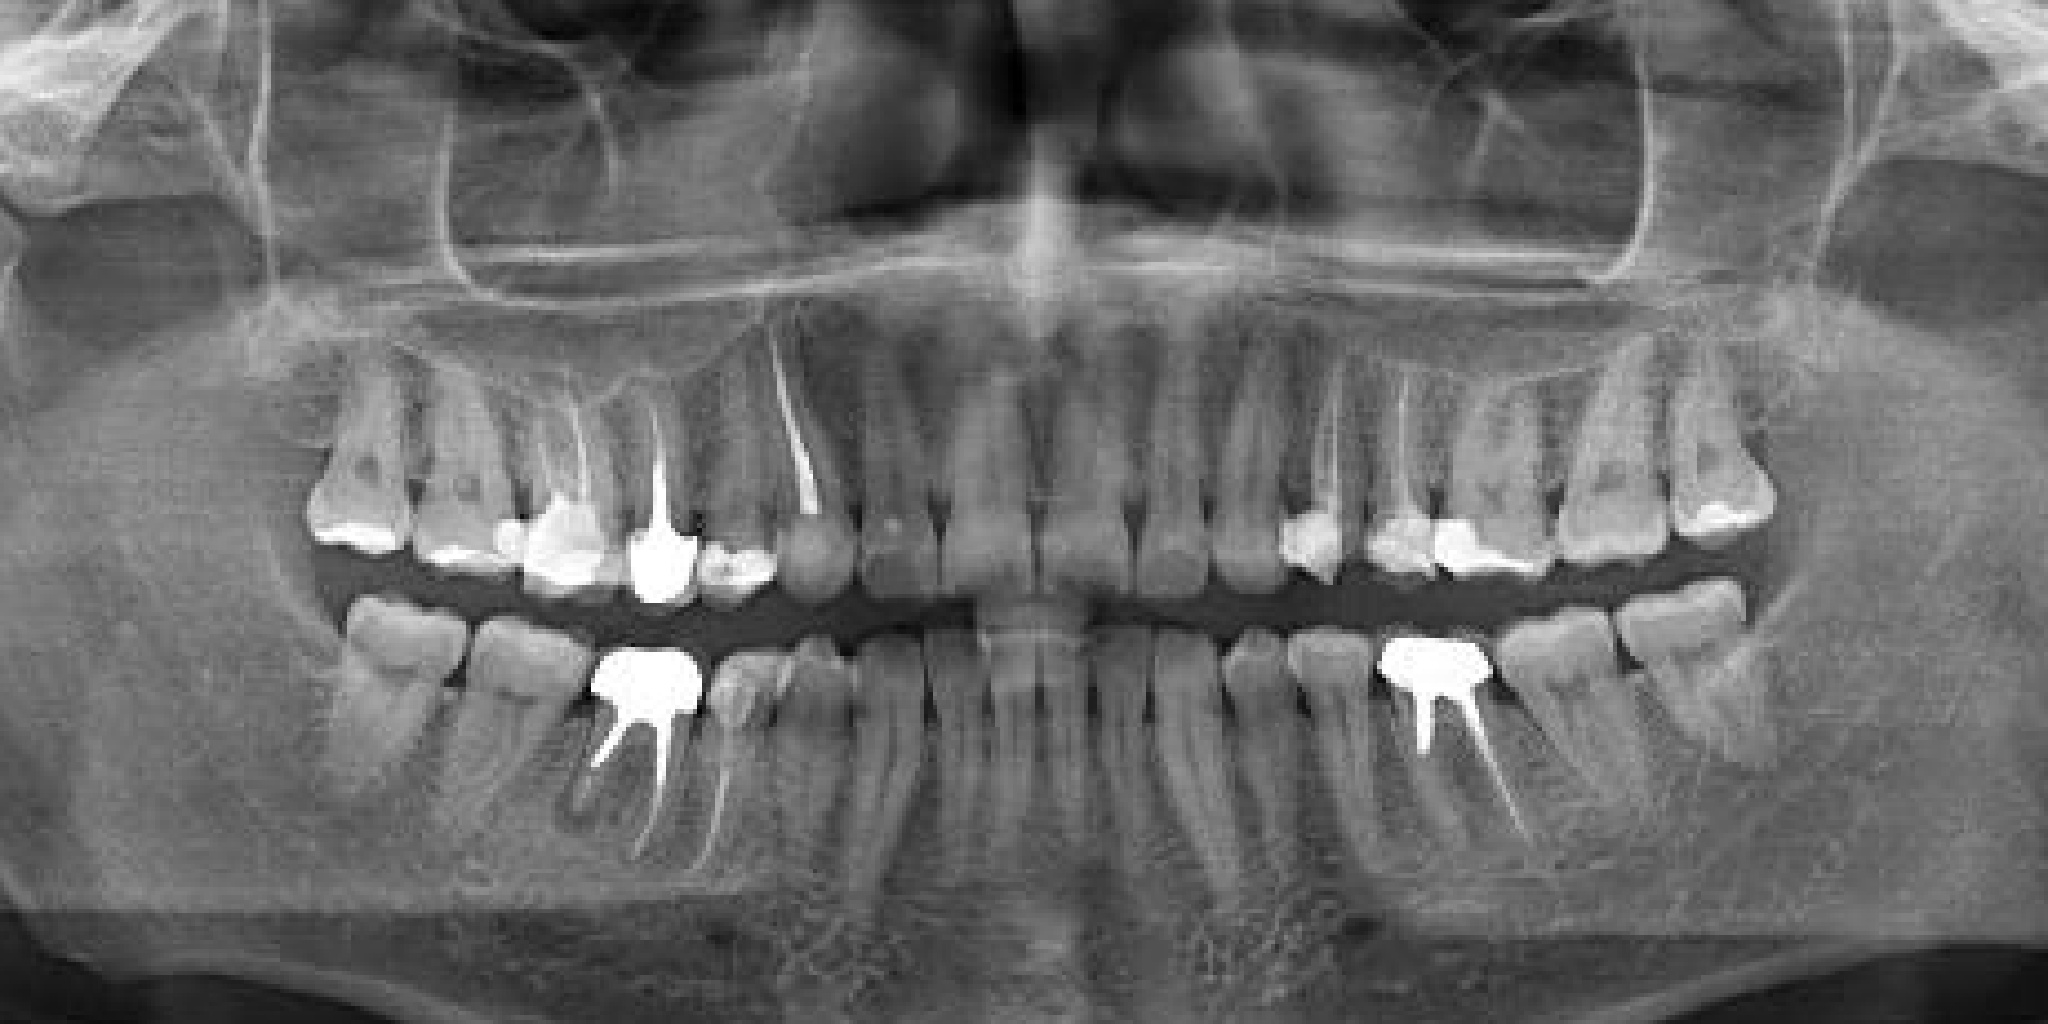Tooth: (1288, 536, 1644, 984), (443, 551, 799, 998), (319, 525, 664, 970), (1548, 475, 1883, 921), (564, 560, 883, 1003), (218, 490, 537, 933), (1351, 232, 1654, 673), (720, 572, 1023, 1012), (414, 243, 705, 680), (1209, 550, 1494, 985), (1482, 216, 1762, 649), (323, 231, 594, 662), (522, 249, 782, 677), (1143, 555, 1398, 980), (946, 560, 1200, 984), (761, 244, 1016, 667), (1132, 229, 1386, 653), (1004, 566, 1258, 989), (677, 225, 923, 647), (246, 219, 487, 639), (1209, 234, 1451, 653), (888, 556, 1128, 976), (974, 231, 1209, 647), (691, 584, 925, 1000), (870, 236, 1104, 653), (1596, 212, 1823, 626), (627, 248, 854, 661), (839, 573, 1064, 987), (1064, 242, 1287, 652), (1292, 242, 1512, 650)
